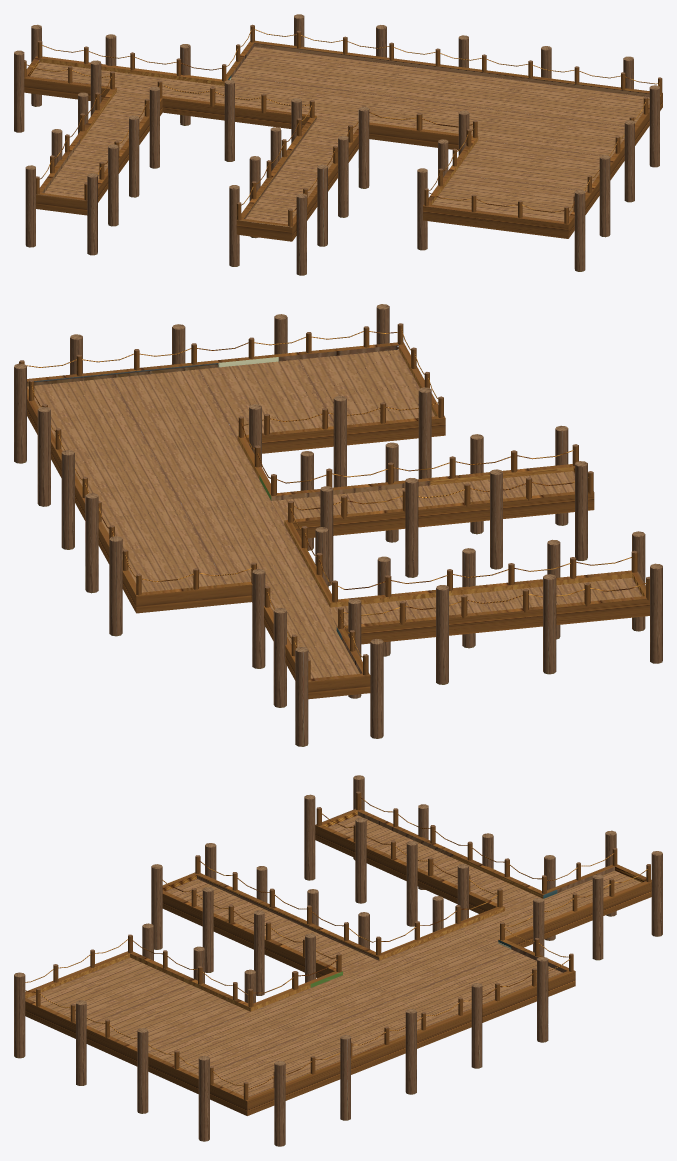
3 views of the same model, one above another, from view 1: azimuth 30°, elevation 25°; view 2: azimuth 150°, elevation 25°; view 3: azimuth 270°, elevation 25° (orthographic). The views are drawn at different scales.
Parts seen in each view (by area): view 1: defaultMaterial.038; view 2: defaultMaterial.038; view 3: defaultMaterial.038.
Boxes of the visible parts, left/top/right/bottom form: defaultMaterial.038: left=14, top=14, right=662, bottom=275; defaultMaterial.038: left=14, top=304, right=662, bottom=746; defaultMaterial.038: left=14, top=775, right=662, bottom=1146.
Size of the model in its own units: 1957 by 249 by 1804.
1 material, 1 textured.
